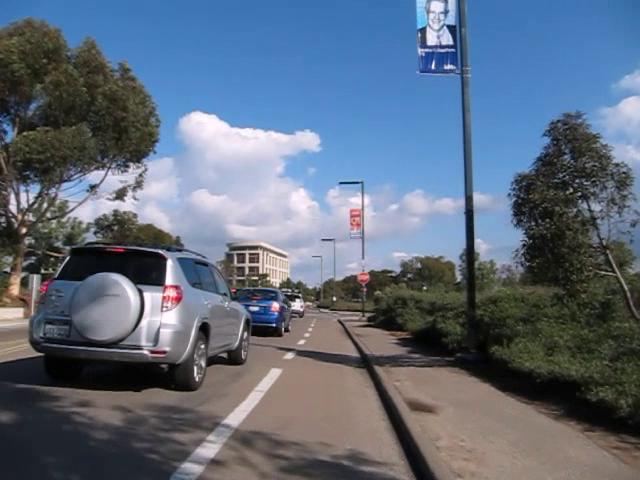stop: (357, 271, 370, 285)
